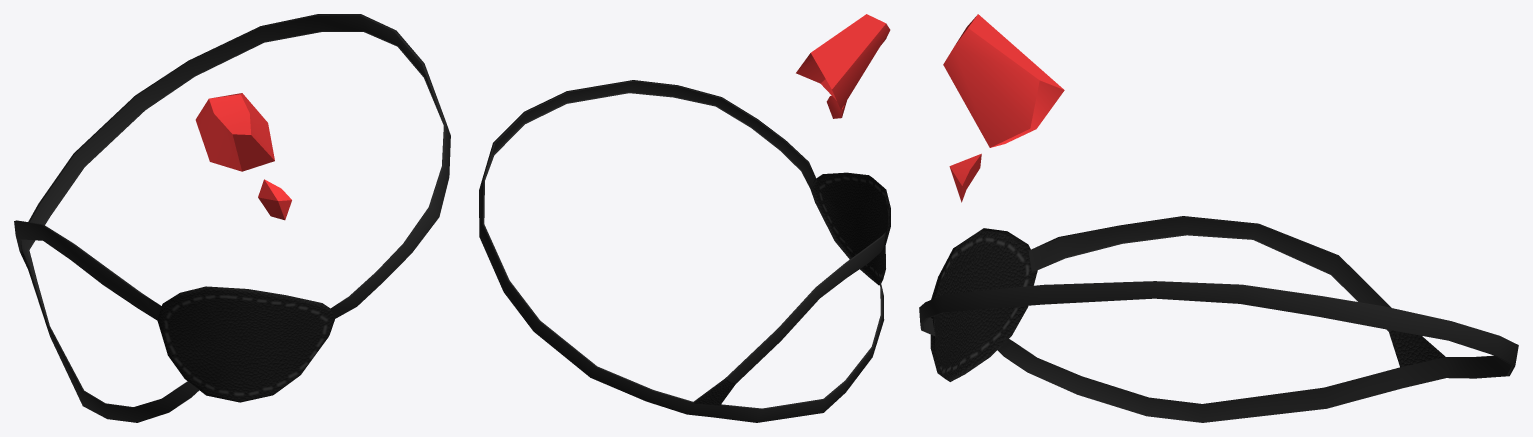
3 renders of one model, left to right at view 1: azimuth 30°, elevation 25°; view 2: azimuth 150°, elevation 25°; view 3: azimuth 270°, elevation 25°, orthographic. The views are drawn at different scales.
Parts seen in each view (by area): view 1: cf_v_means_venom_Untitled.001; view 2: cf_v_means_venom_Untitled.001; view 3: cf_v_means_venom_Untitled.001.
Boxes of the visible parts, x1,y1,x2,y2 form: cf_v_means_venom_Untitled.001: [14, 14, 450, 422]; cf_v_means_venom_Untitled.001: [479, 14, 890, 422]; cf_v_means_venom_Untitled.001: [919, 14, 1518, 422].
Size of the model in its own units: 0.5893 by 0.5959 by 0.7638.
Materials: 1 (1 with a texture image).
